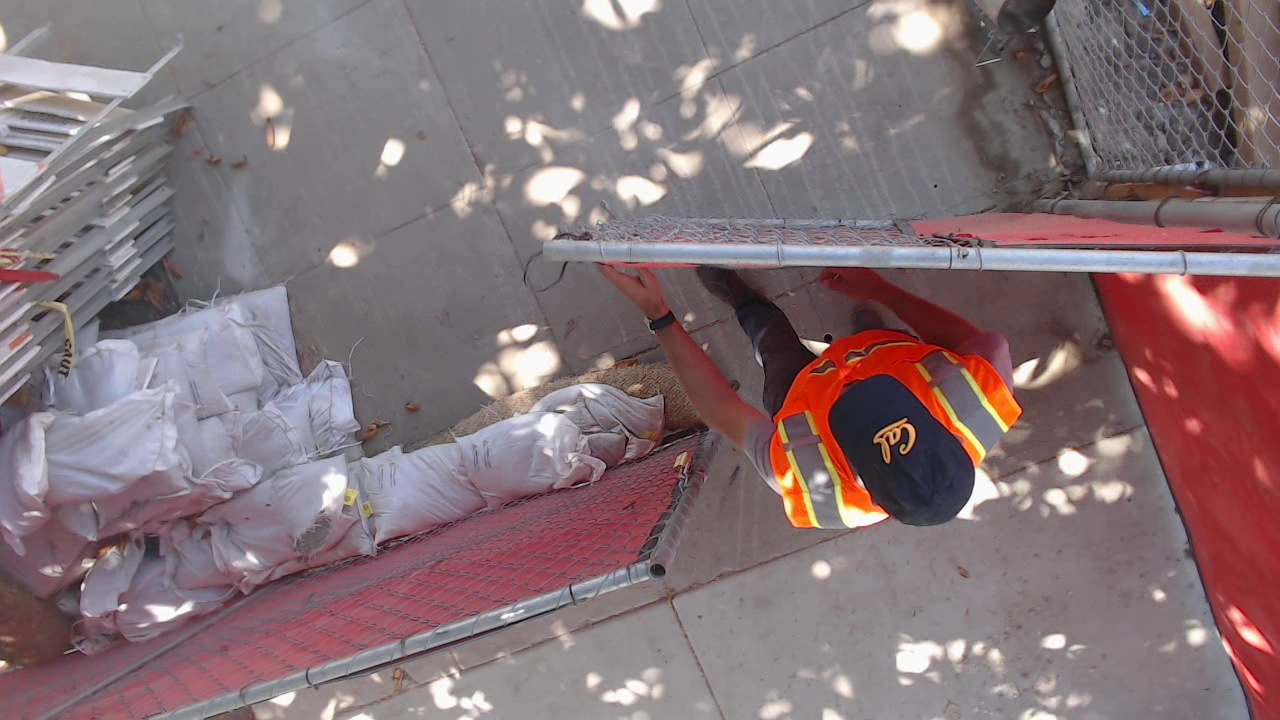person: (703, 278, 1023, 535)
safetyvest: (771, 331, 1023, 533)
